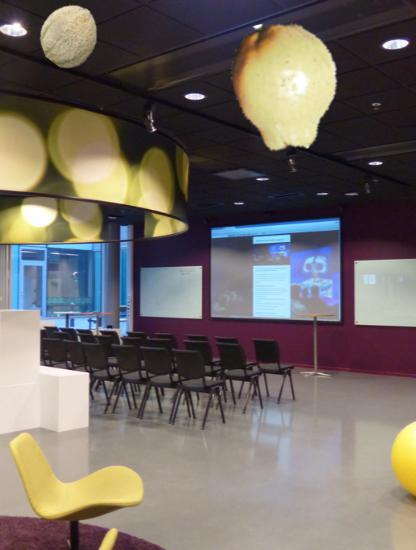Cantaloupe: (38, 4, 102, 68)
Quince: (221, 20, 353, 152)
